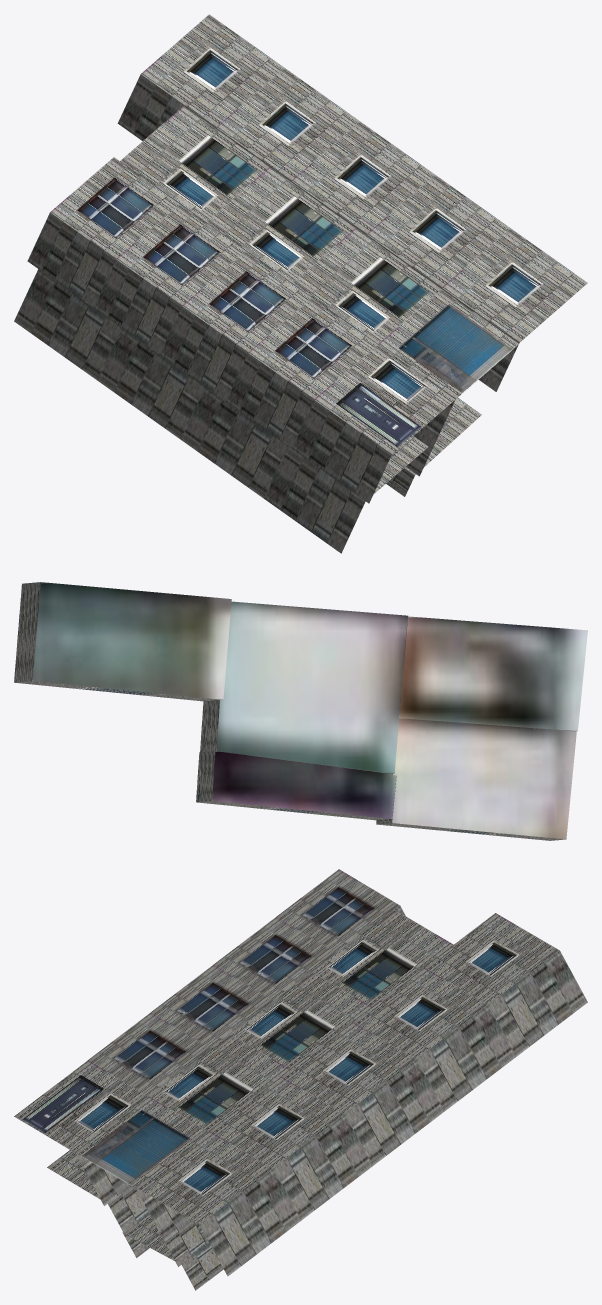
The picture shows the model from 3 angles, top to bottom: view 1: azimuth 30°, elevation 25°; view 2: azimuth 150°, elevation 25°; view 3: azimuth 270°, elevation 25°; orthographic projection. The views are drawn at different scales.
Size of the model in its own units: 18.7 by 12.46 by 19.76.
Materials: 19 (19 with a texture image).
